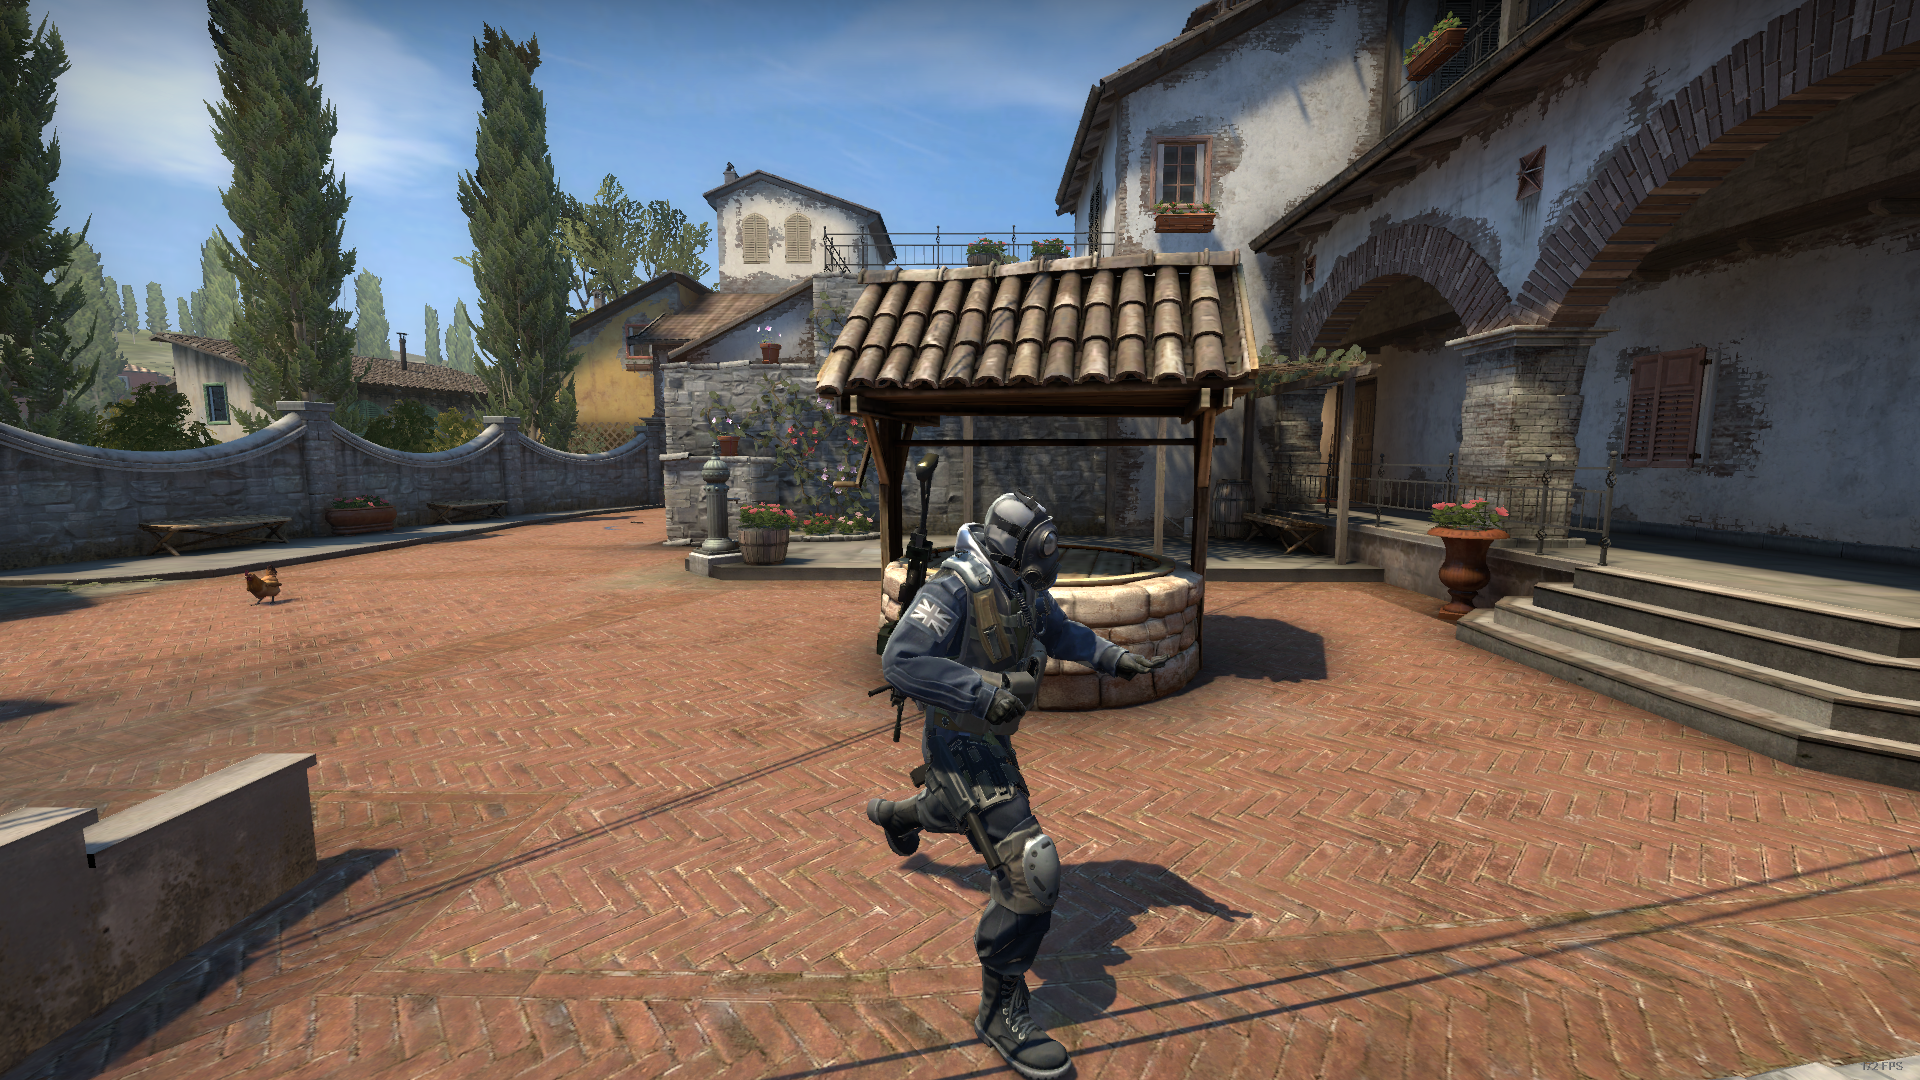ct: (858, 491, 1178, 1080)
